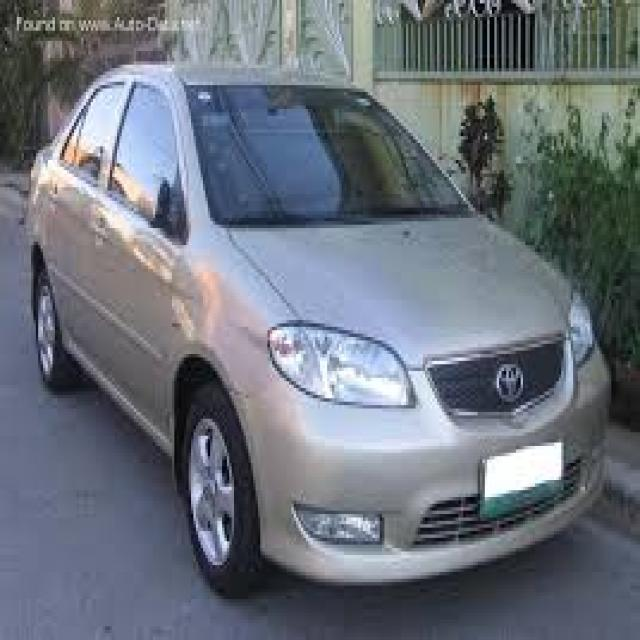ToyotaVios: (23, 59, 613, 599)
